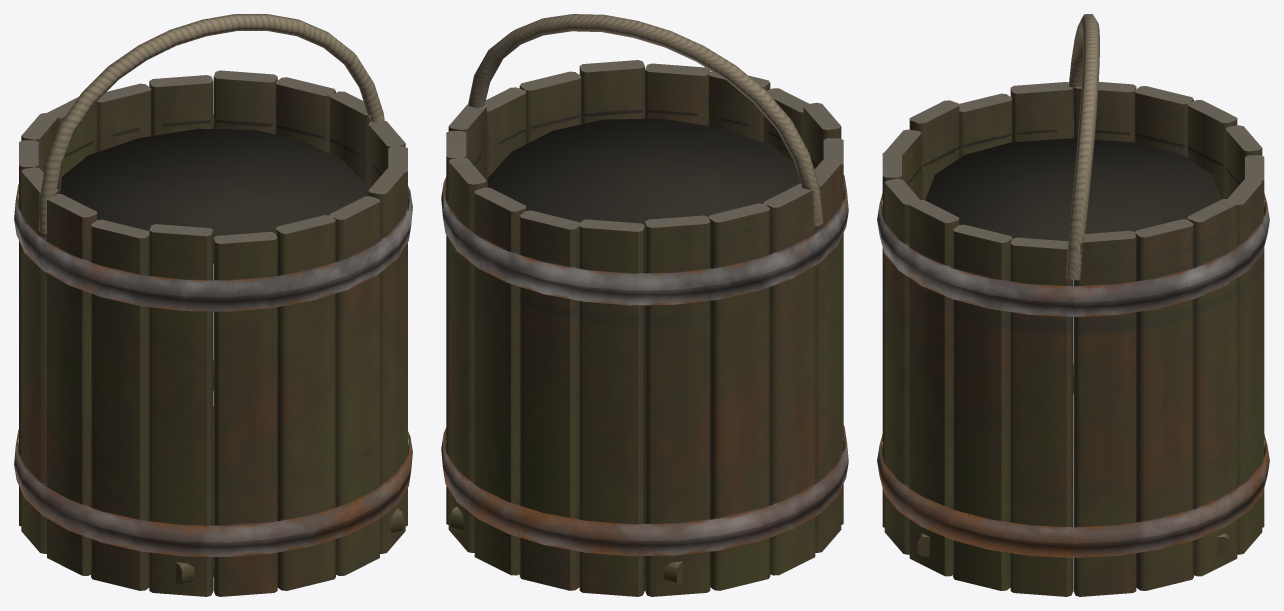
The model's file is SM_Camp_FireBucket.fbx.
3 renders of one model, left to right at view 1: azimuth 30°, elevation 25°; view 2: azimuth 150°, elevation 25°; view 3: azimuth 270°, elevation 25°, orthographic. The views are drawn at different scales.
Parts seen in each view (by area): view 1: SM_Camp_FireBucket; view 2: SM_Camp_FireBucket; view 3: SM_Camp_FireBucket.
Part boxes in pixels (x1=…): SM_Camp_FireBucket: x1=14, y1=14, x2=412, y2=596; SM_Camp_FireBucket: x1=441, y1=14, x2=848, y2=596; SM_Camp_FireBucket: x1=877, y1=14, x2=1269, y2=596.
Size of the model in its own units: 32.5 by 32.5 by 43.58.
